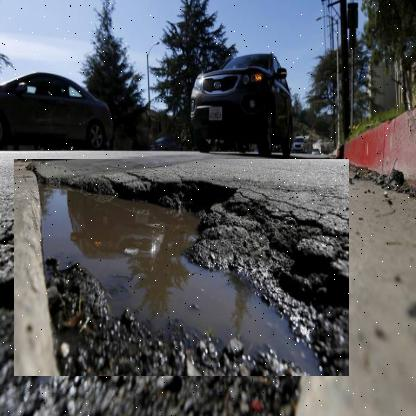pothole_water_m: (13, 160, 348, 378)
